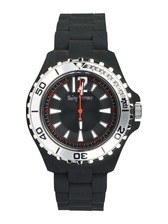watch: (21, 8, 145, 214)
